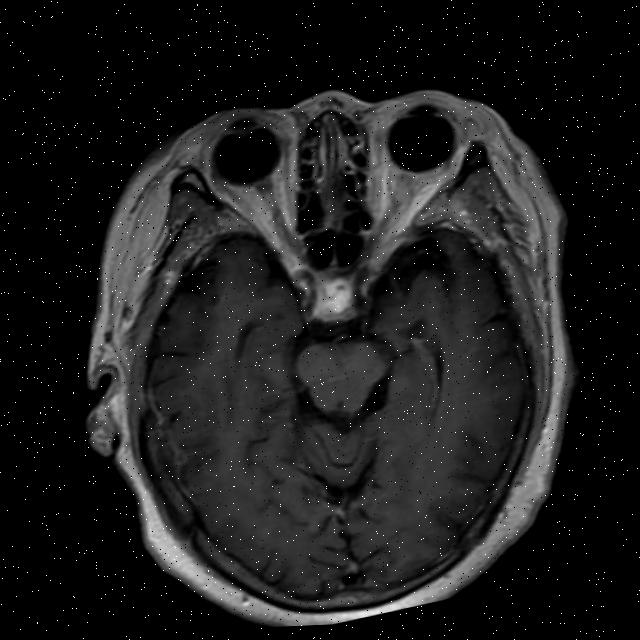Pituitary: (320, 272, 357, 317)
